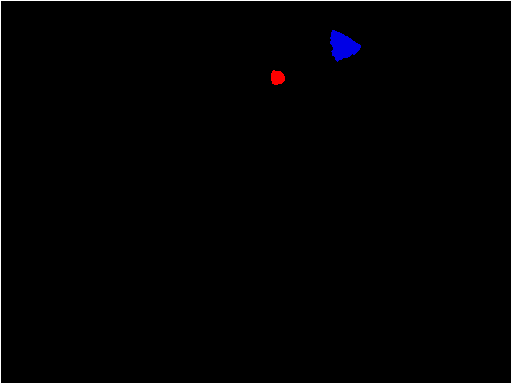chipped: (329, 33, 357, 53)
detached: (269, 69, 285, 81)
